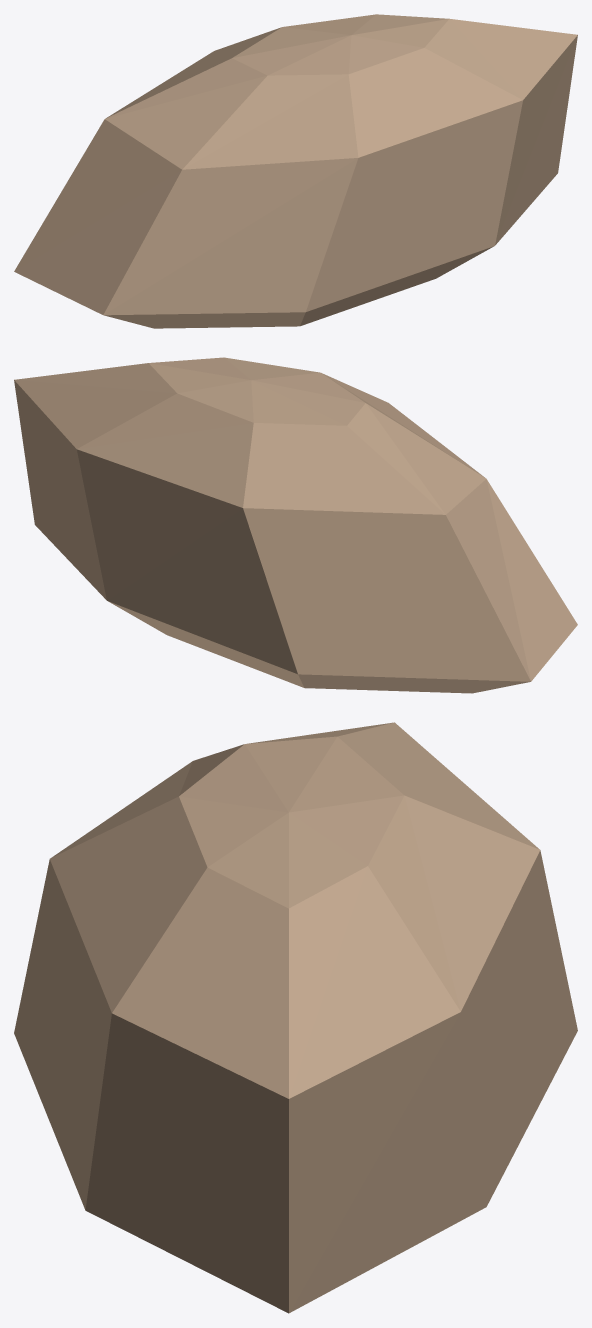
3 renders of one model, top to bottom at view 1: azimuth 30°, elevation 25°; view 2: azimuth 150°, elevation 25°; view 3: azimuth 270°, elevation 25°, orthographic. The views are drawn at different scales.
Parts seen in each view (by area): view 1: R07; view 2: R07; view 3: R07.
Boxes of the visible parts, x1=… form: R07: x1=14, y1=14, x2=577, y2=328; R07: x1=14, y1=357, x2=577, y2=693; R07: x1=14, y1=722, x2=577, y2=1313.
Bounding box in the file's own units: 1.34 × 0.5382 × 0.7126.
